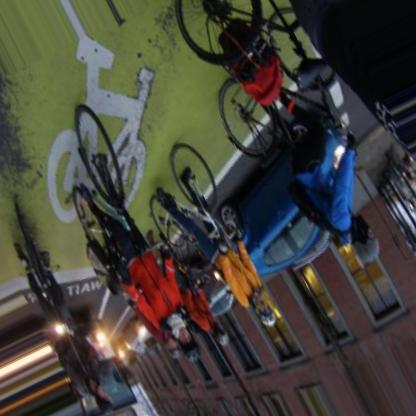with helmet: (351, 214, 386, 266), (177, 325, 202, 366), (252, 295, 278, 329), (210, 319, 236, 349)
